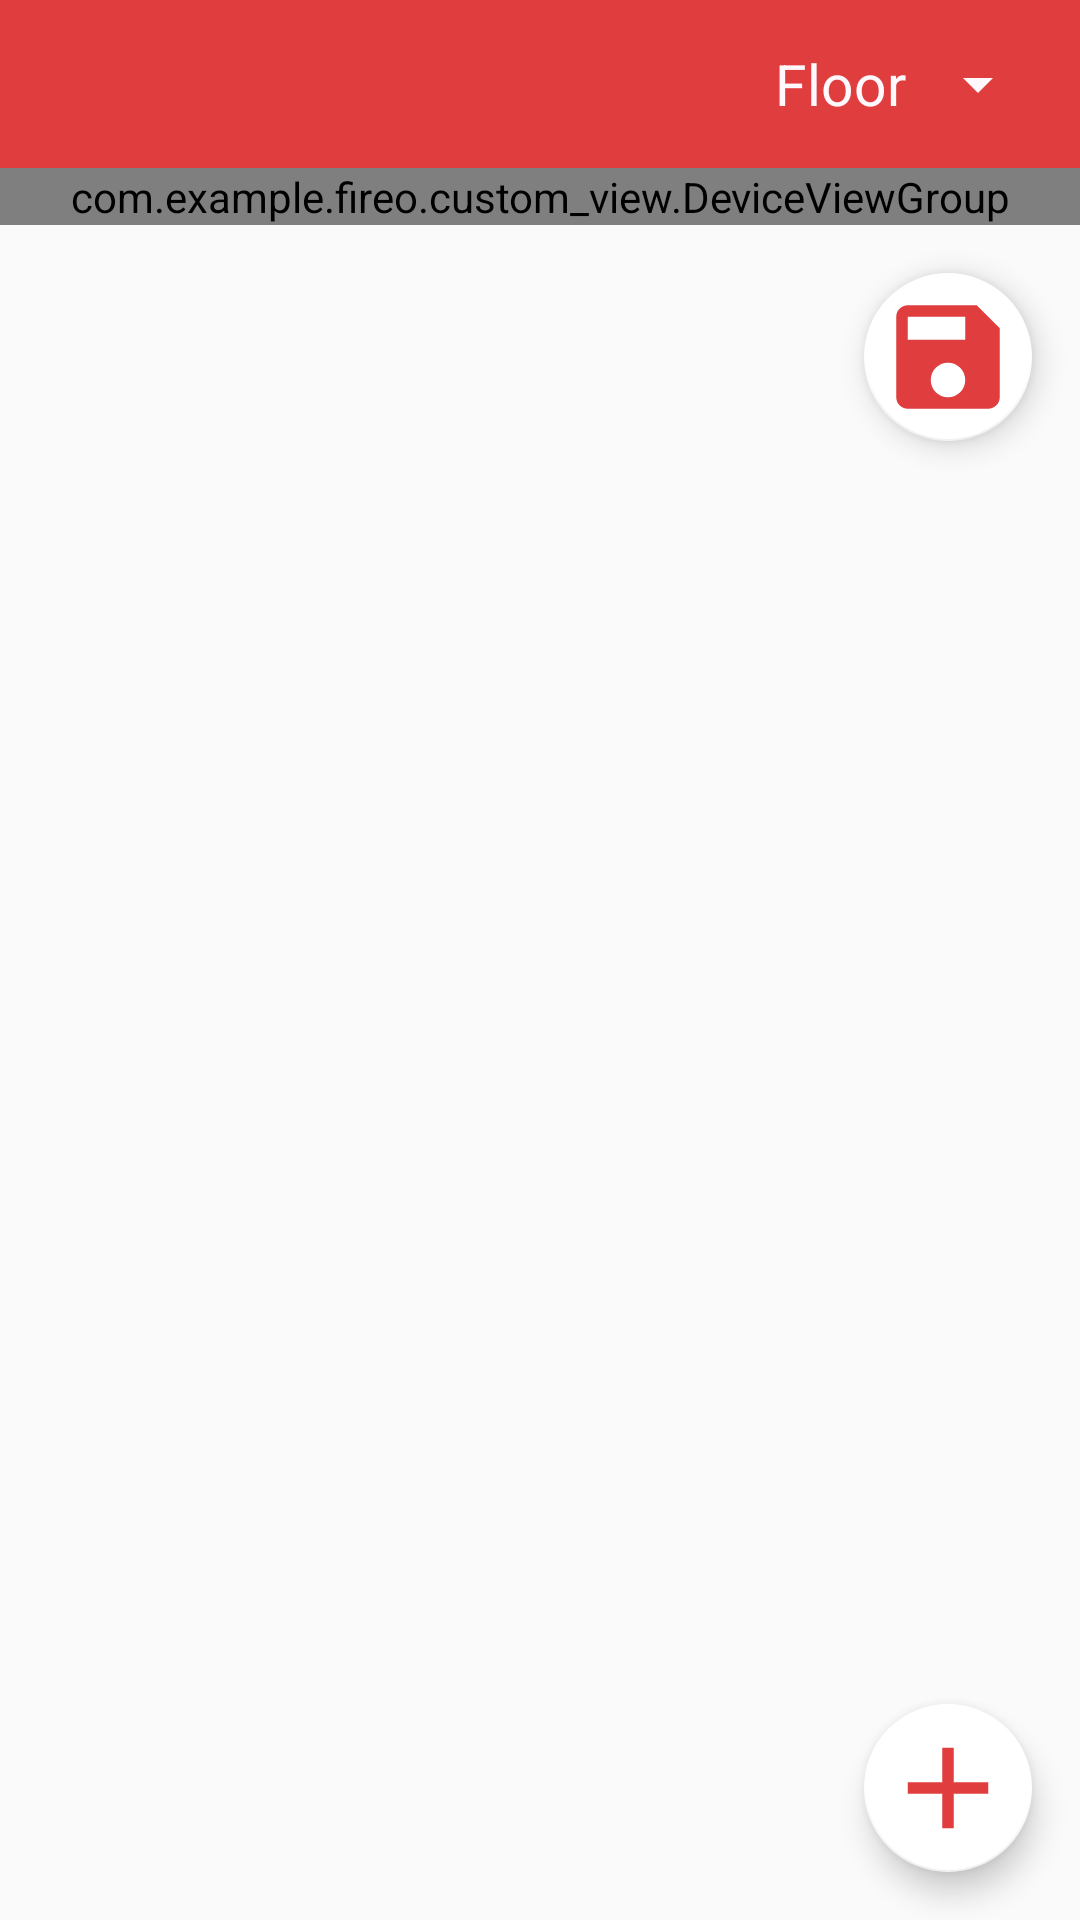

Locate icon controls on the screen. Image size 1080x1920, boxes as (x1, y1, x2, y2).
add fab: (907, 1747, 989, 1829)
save: (864, 273, 1032, 441)
